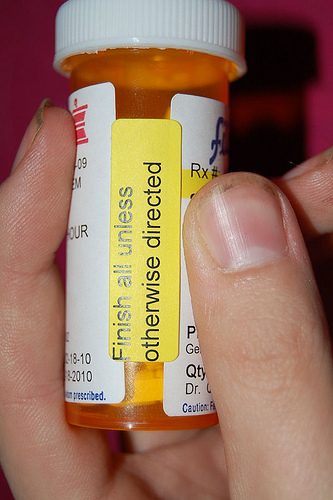pill bottle: (54, 1, 245, 433)
